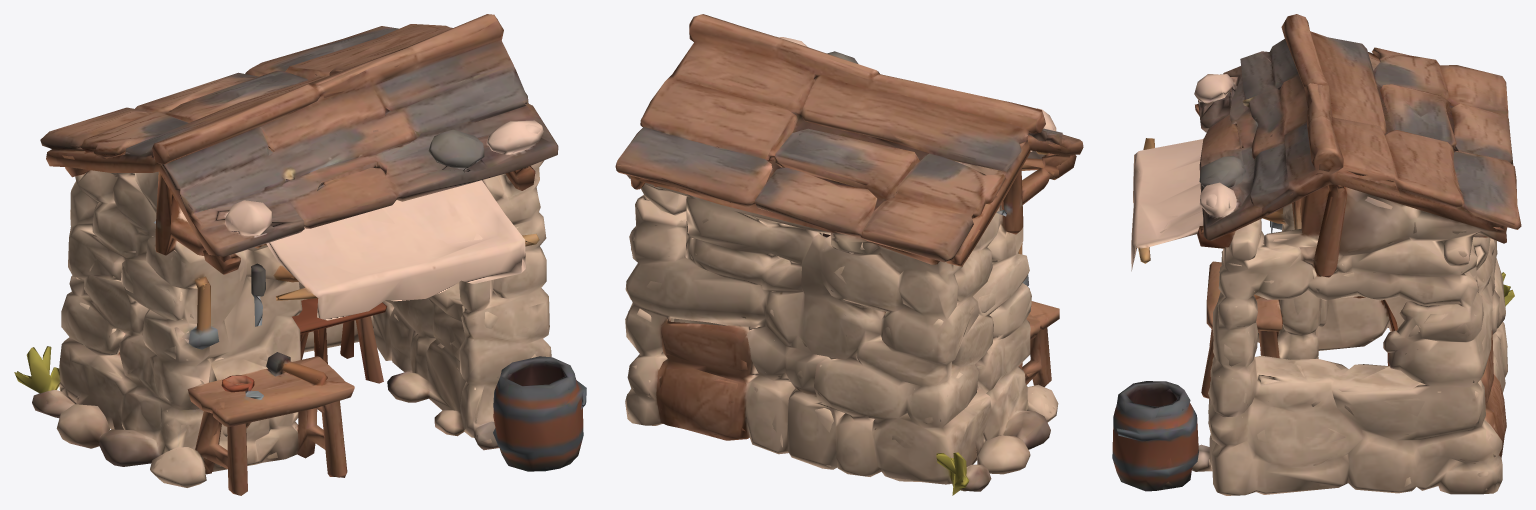
The model's file is sieve-cutters-hut-a.glb.
The picture shows the model from 3 angles, left to right: view 1: azimuth 30°, elevation 25°; view 2: azimuth 150°, elevation 25°; view 3: azimuth 270°, elevation 25°; orthographic projection. The views are drawn at different scales.
Bounding box in the file's own units: 3 × 2.66 × 2.79.
1 material, 1 textured.
